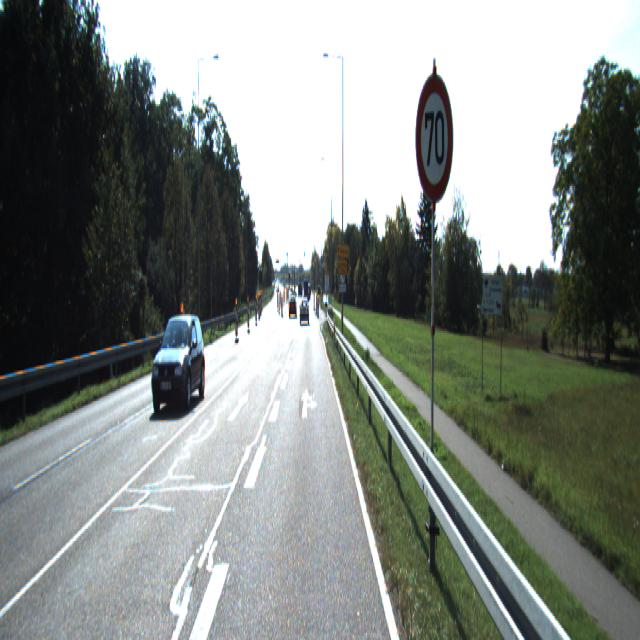Car: (151, 313, 206, 417), (300, 301, 309, 325)
